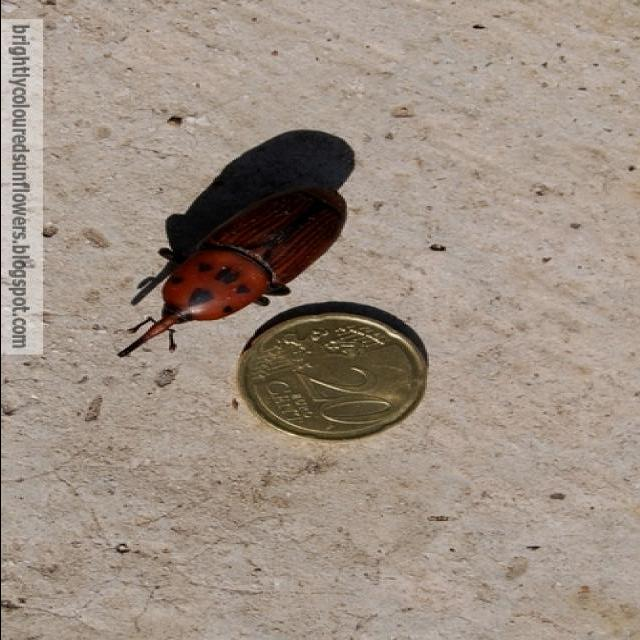Red-palm-weevil: (105, 178, 349, 357)
